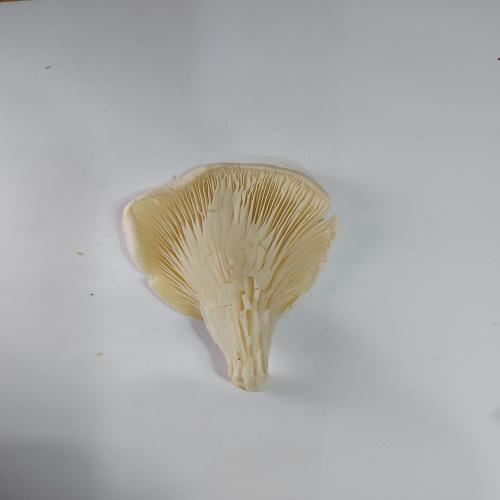Oyster Mushroom: (121, 161, 340, 392)
